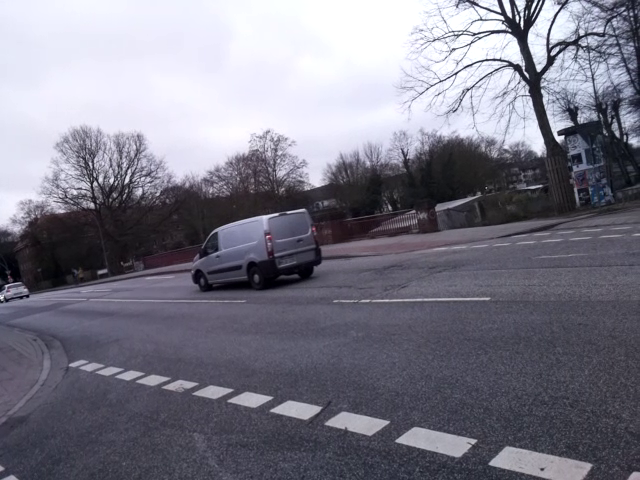car: (188, 208, 323, 289)
